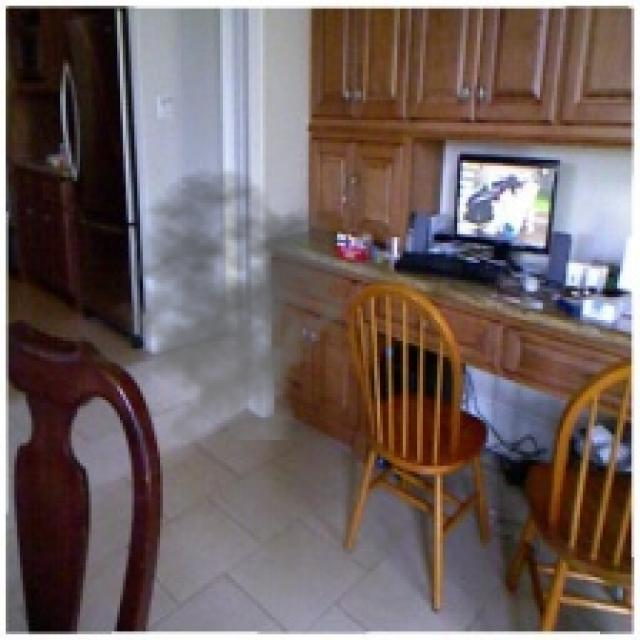Smoke: (97, 168, 357, 440)
